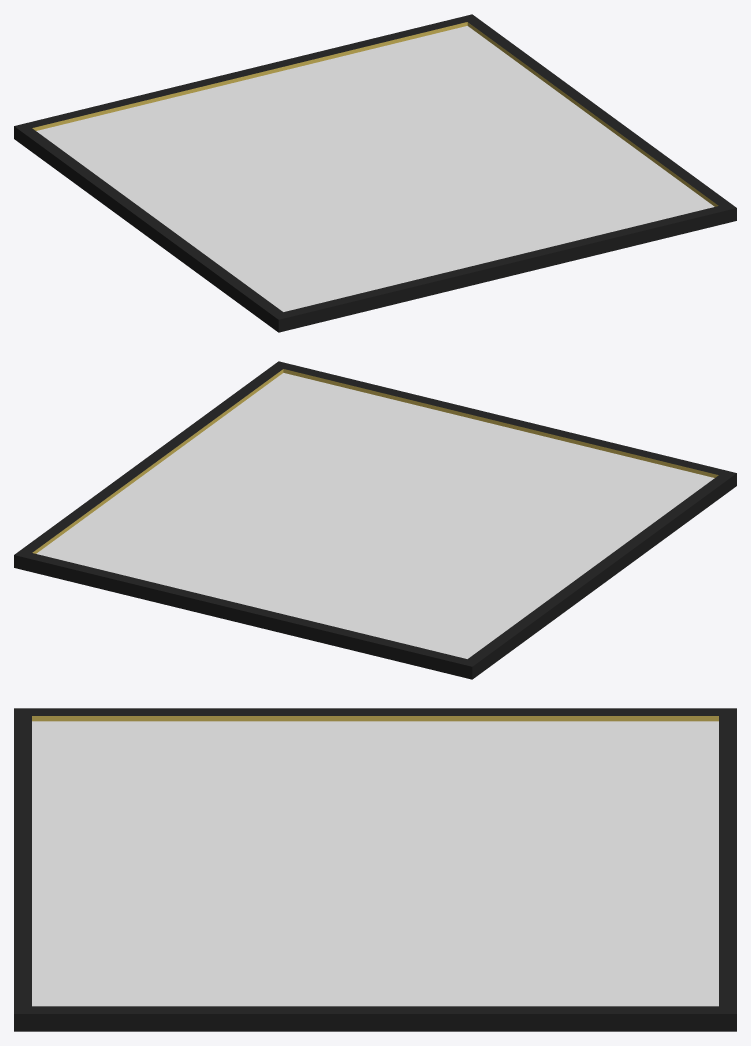
The model's file is FloorLightWithBottom.fbx.
The picture shows the model from 3 angles, top to bottom: view 1: azimuth 30°, elevation 25°; view 2: azimuth 150°, elevation 25°; view 3: azimuth 270°, elevation 25°; orthographic projection. The views are drawn at different scales.
Visible parts, largest first — view 1: Cube.001, Cube.002; view 2: Cube.001, Cube.002; view 3: Cube.001, Cube.002.
Part boxes in pixels (bbox=[...]): Cube.001: bbox=[14, 14, 736, 326]; Cube.002: bbox=[14, 133, 736, 332]; Cube.001: bbox=[14, 361, 736, 673]; Cube.002: bbox=[14, 480, 736, 679]; Cube.001: bbox=[14, 708, 736, 1022]; Cube.002: bbox=[14, 1022, 736, 1031].
Size of the model in its own units: 400 by 10.74 by 400.
